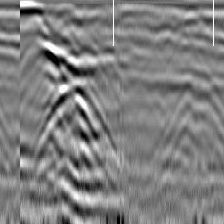Utility: (38, 83, 118, 179)
